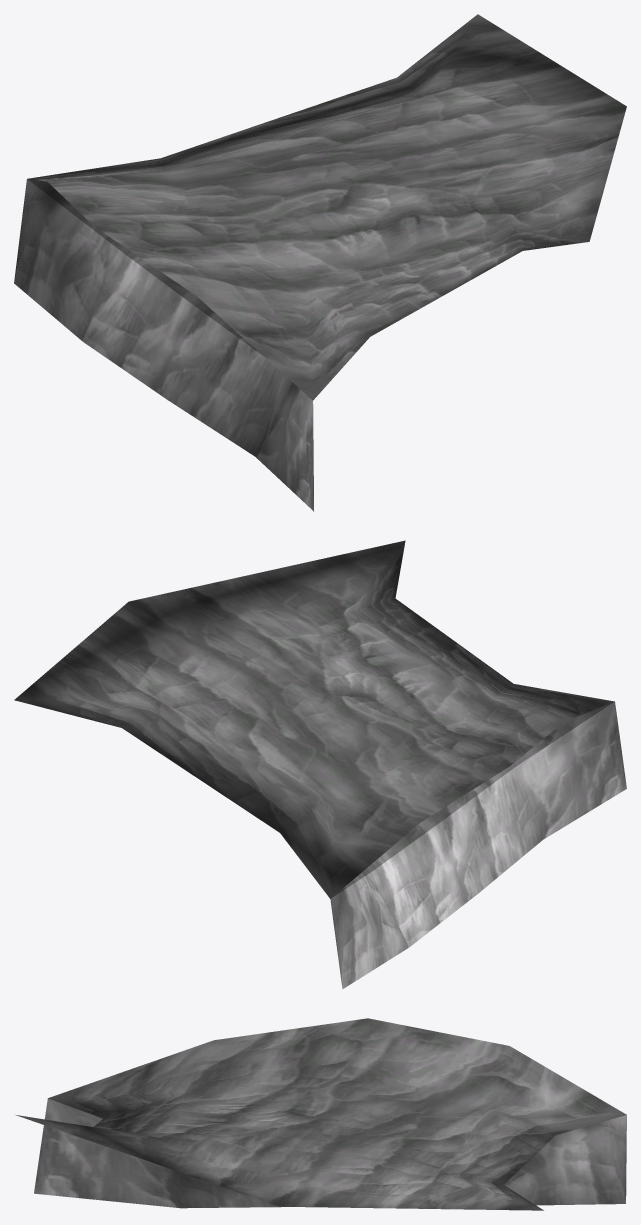
Rendered from SWORDLIGHT20_PS-AREA03_15.fbx.
3 renders of one model, top to bottom at view 1: azimuth 30°, elevation 25°; view 2: azimuth 150°, elevation 25°; view 3: azimuth 270°, elevation 25°, orthographic. The views are drawn at different scales.
Parts seen in each view (by area): view 1: SWORDLIGHT20_PS-AREA03_15; view 2: SWORDLIGHT20_PS-AREA03_15; view 3: SWORDLIGHT20_PS-AREA03_15.
Part boxes in pixels (x1,y1,x2,y2): SWORDLIGHT20_PS-AREA03_15: (14,14,626,511); SWORDLIGHT20_PS-AREA03_15: (14,540,626,989); SWORDLIGHT20_PS-AREA03_15: (16,1018,626,1210).
Bounding box in the file's own units: 76784 × 33553 × 89069.
Materials: 2 (2 with a texture image).
